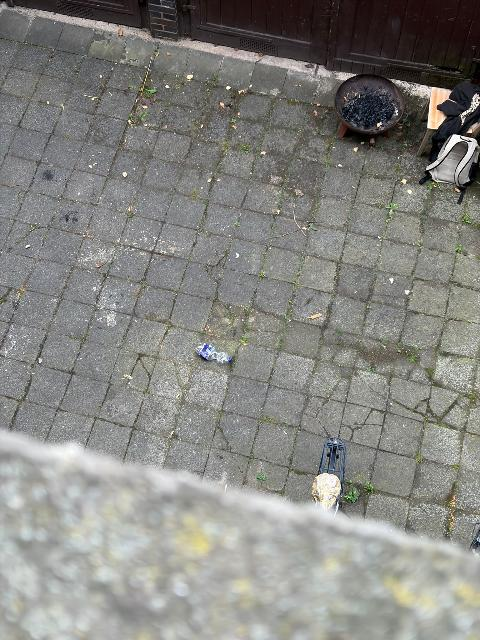plastic_bottle: (194, 341, 232, 364)
